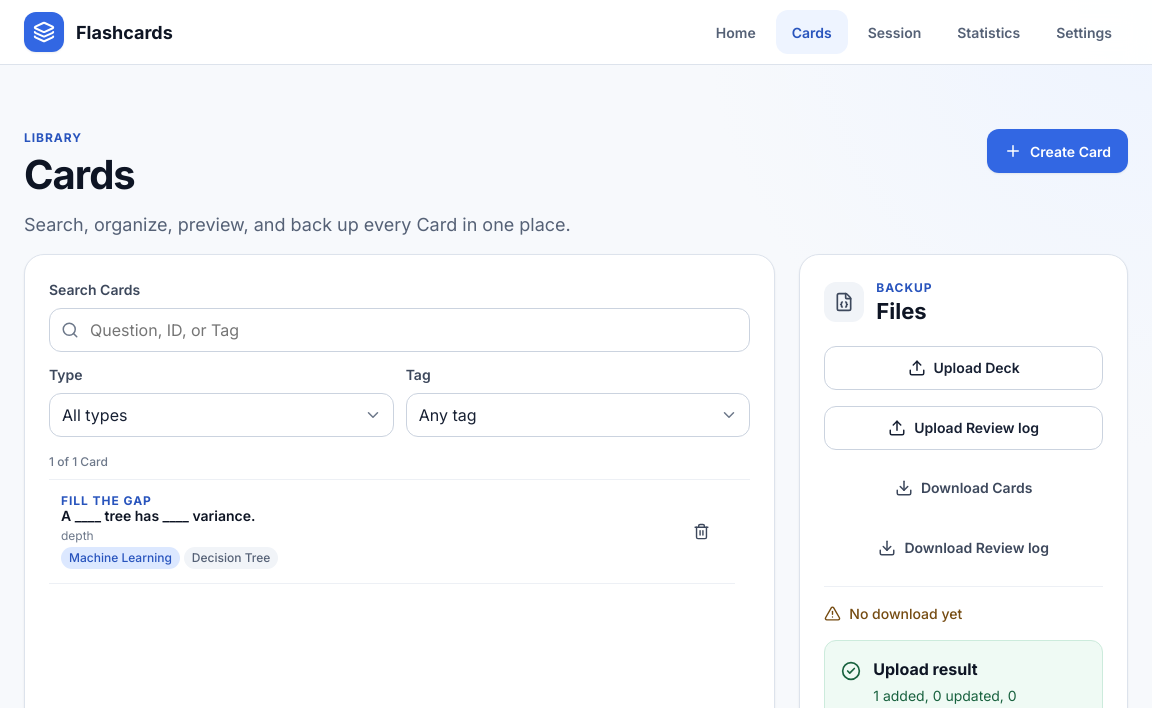
Test: shows the prompt, Reveal shows the answer, and grading appends a Review (cloze with two gaps, Didn't know)
The width and height of the screenshot is (1152, 708).
Earlier steps of the test are not shown.
Later steps or results of the test are not shown.
Click the button "Home". click: (736, 32)
box: [700, 10, 772, 54]
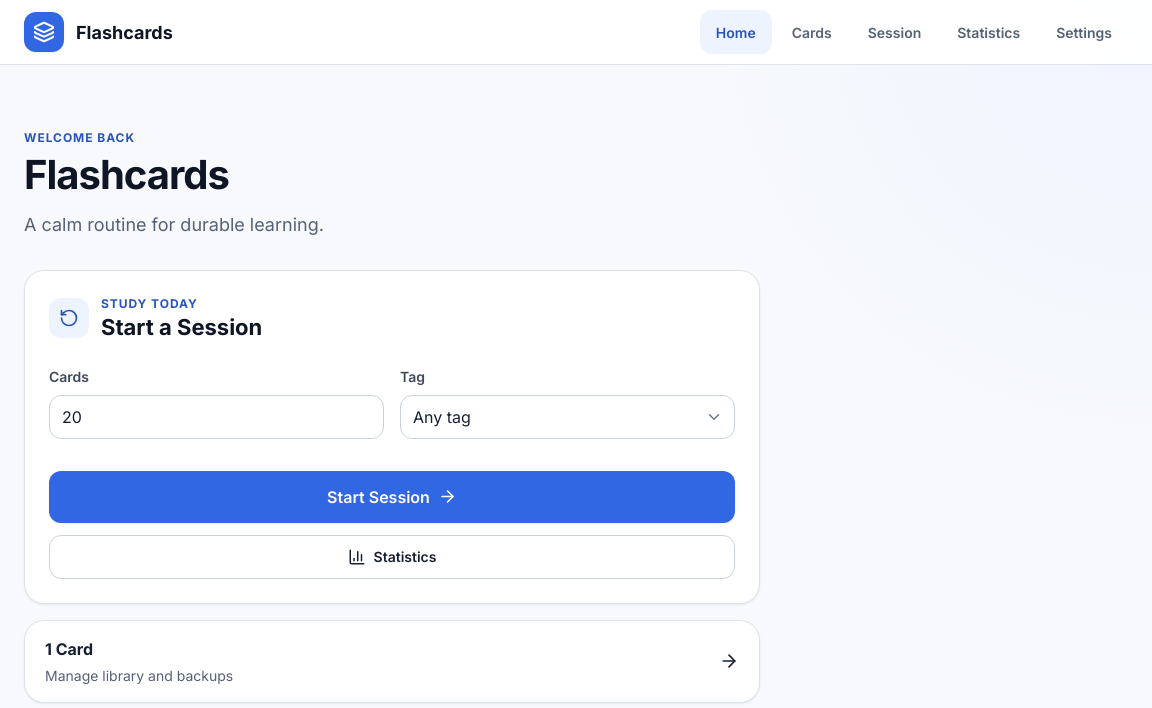
Click the button "Start Session". click: (392, 497)
box: [49, 471, 735, 523]
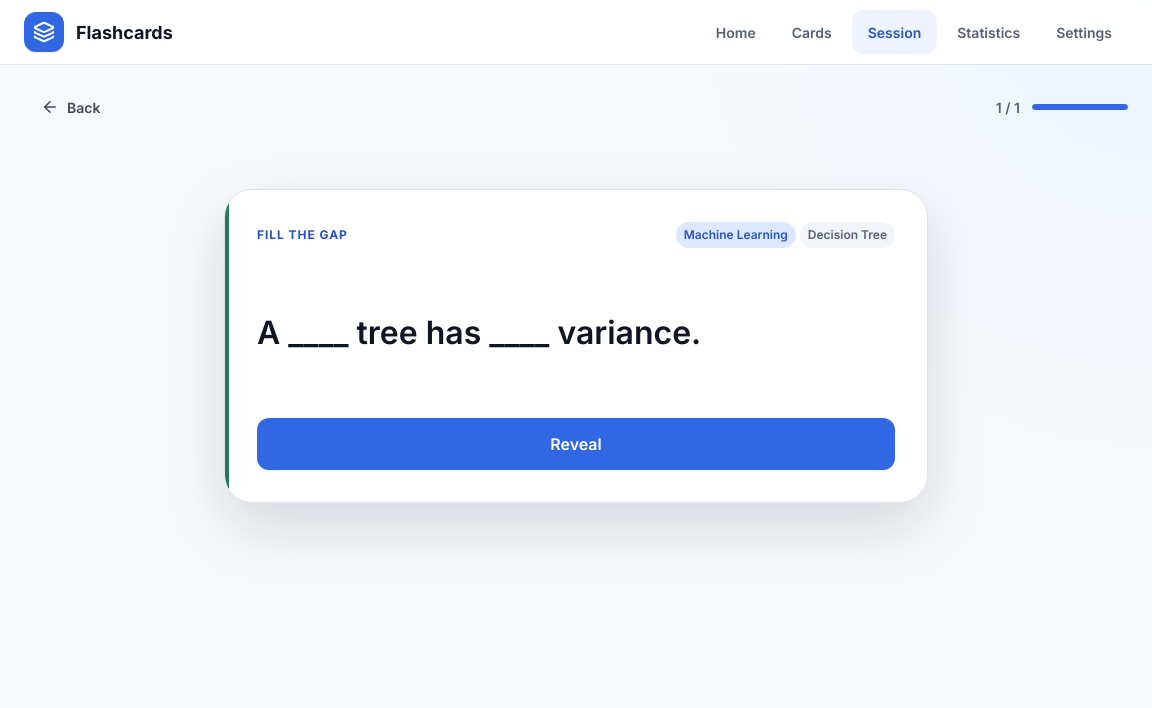
Expected: the text "deep" is not shown
Result: the heading "A ____ tree has ____ variance." is shown at [257, 313, 701, 352]
Click the button "Reveal". click: (576, 444)
box: [257, 418, 895, 470]
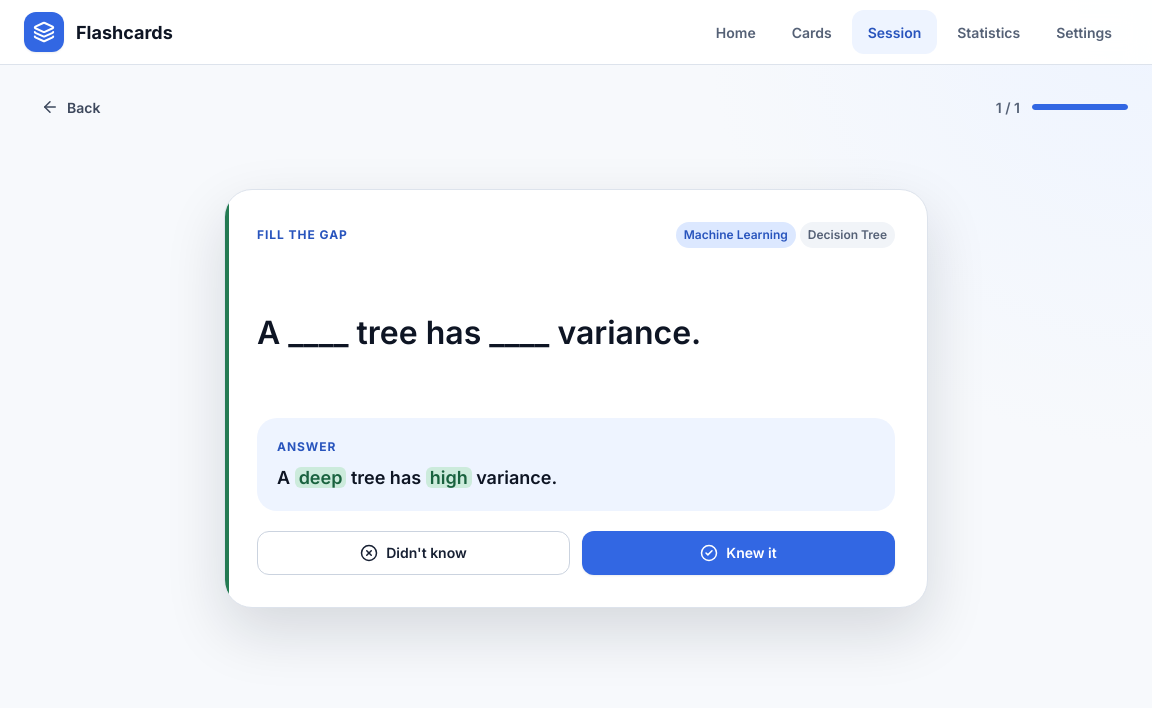
Result: the text "deep" is shown at [295, 467, 346, 488]
Result: the text "high" is shown at [426, 467, 472, 488]
